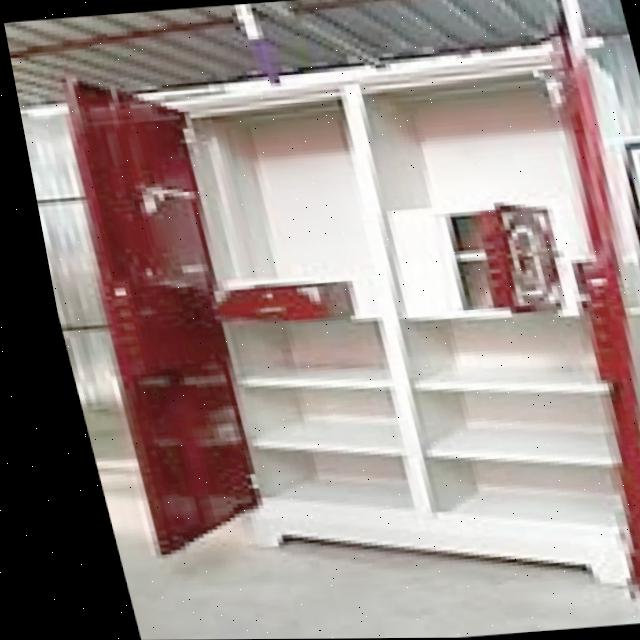dolap: (10, 0, 640, 640)
